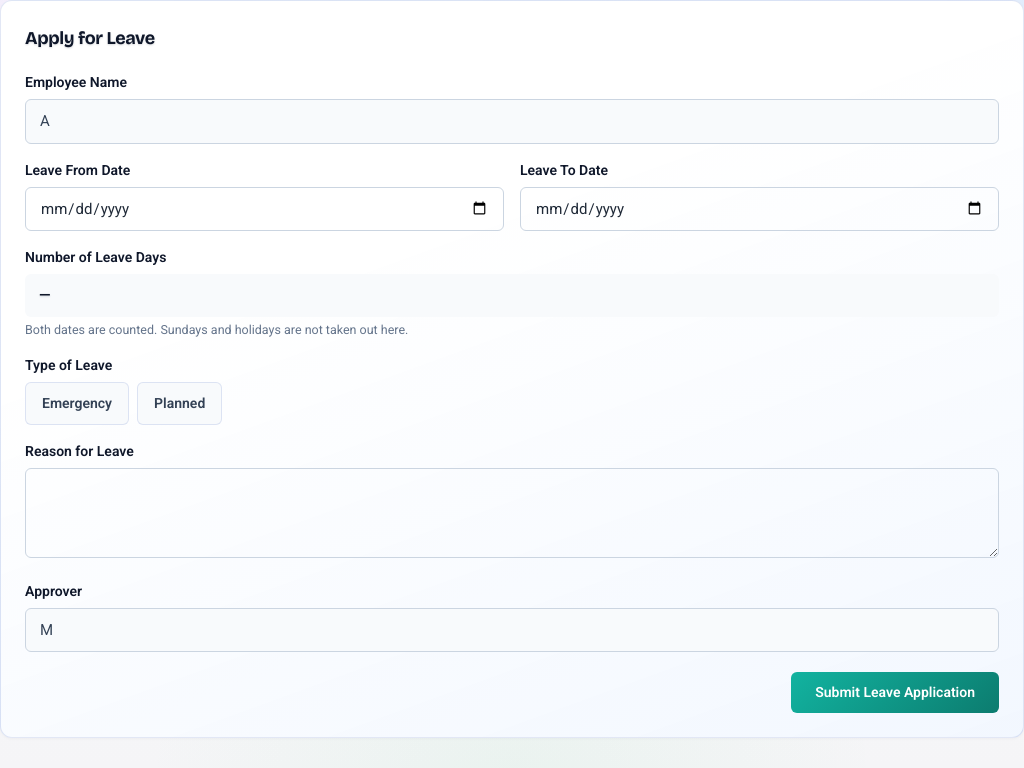
ApplyLeaveForm › ignores a second click while the first submission is in flight
Type "2026-09-15" into the date field labelled "Leave From Date".
click(264, 209); type("2026-09-15")  # box [25, 186, 504, 231]
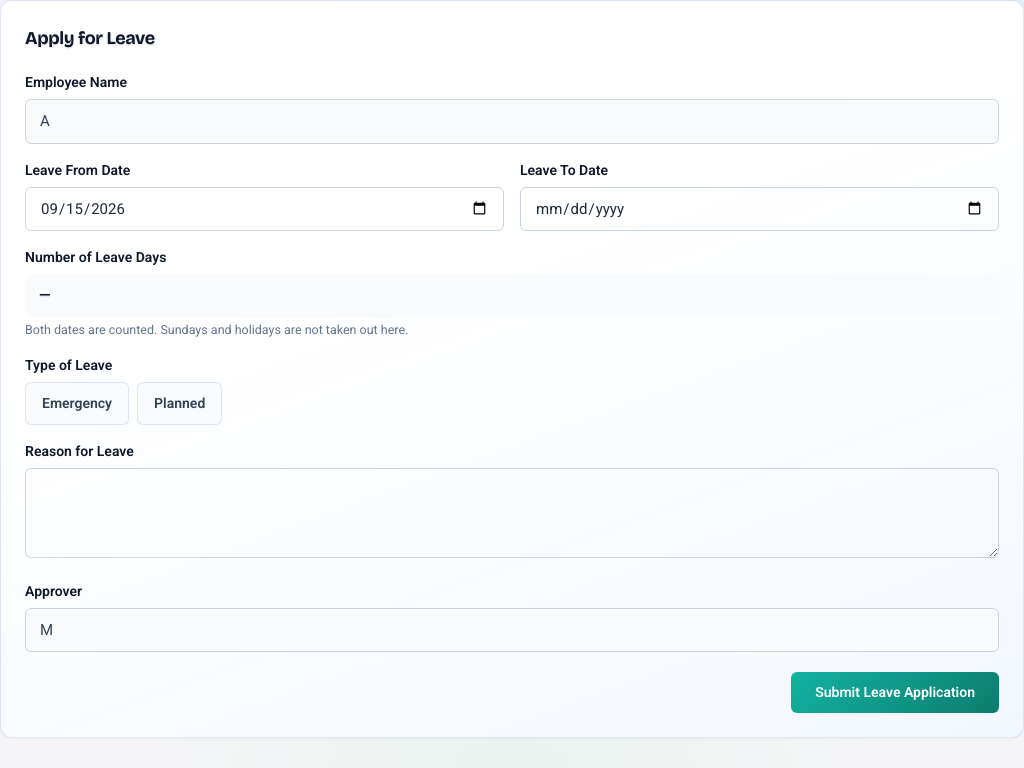
Type "2026-09-21" into the date field labelled "Leave To Date".
click(760, 209); type("2026-09-21")  # box [520, 186, 999, 231]
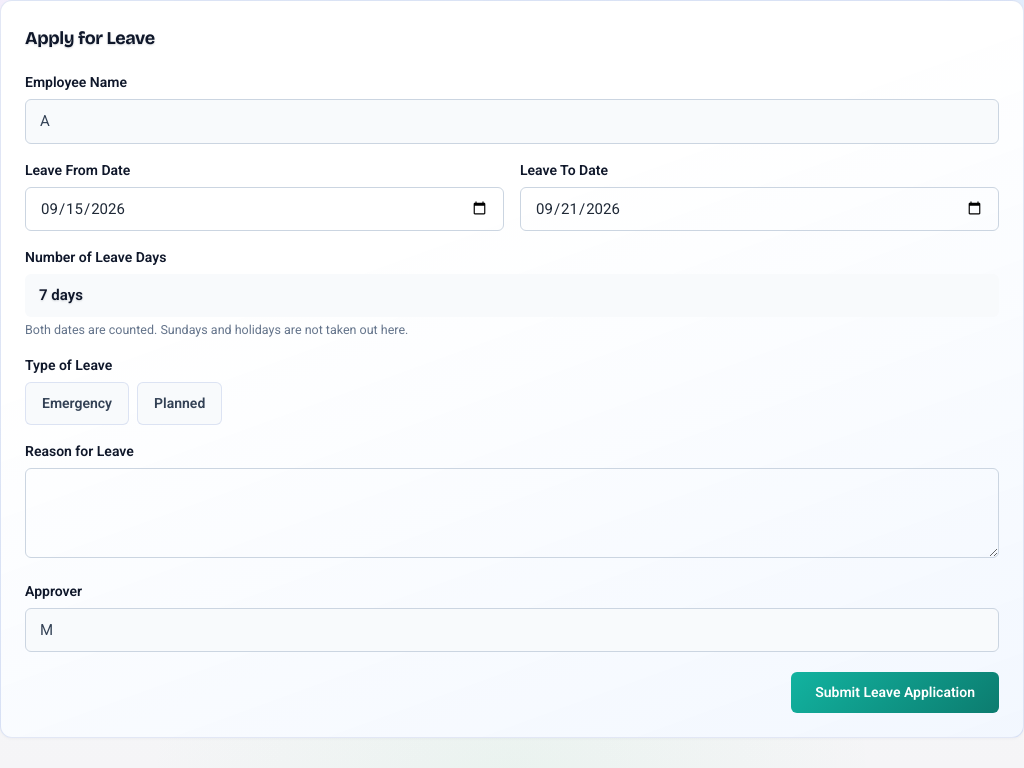
Click the radio button labelled "Planned".
click(180, 404)  # box [137, 382, 222, 425]
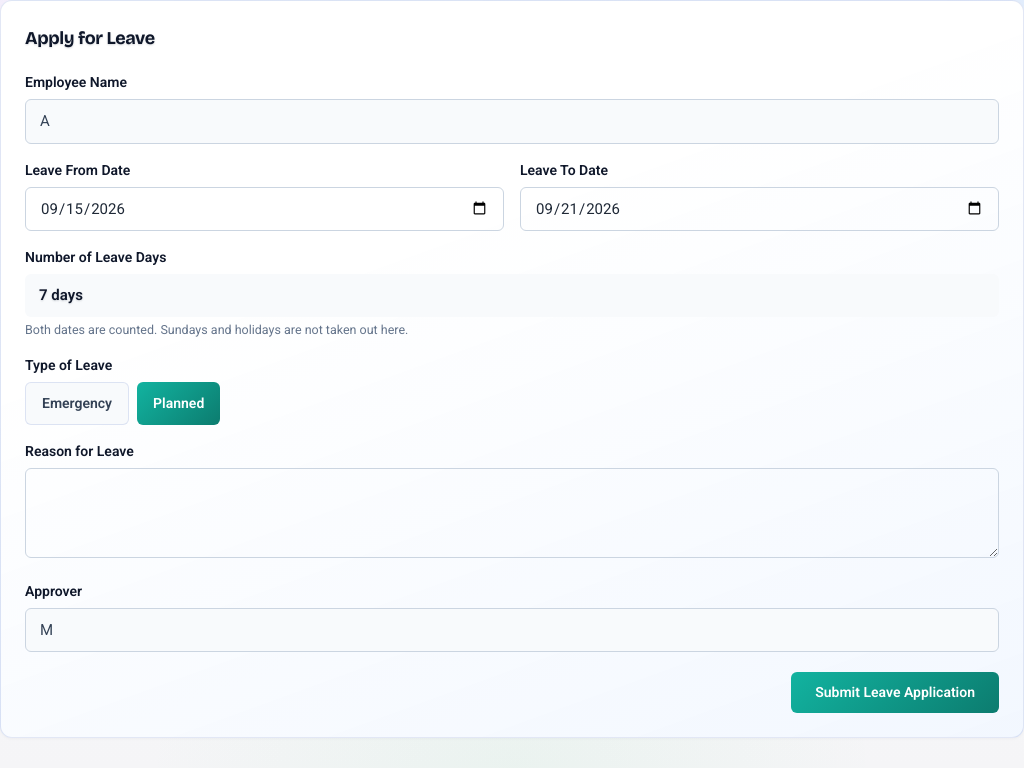
Type "Wedding" into the text box labelled "Reason for Leave".
click(512, 513); type("Wedding")  # box [25, 468, 999, 558]
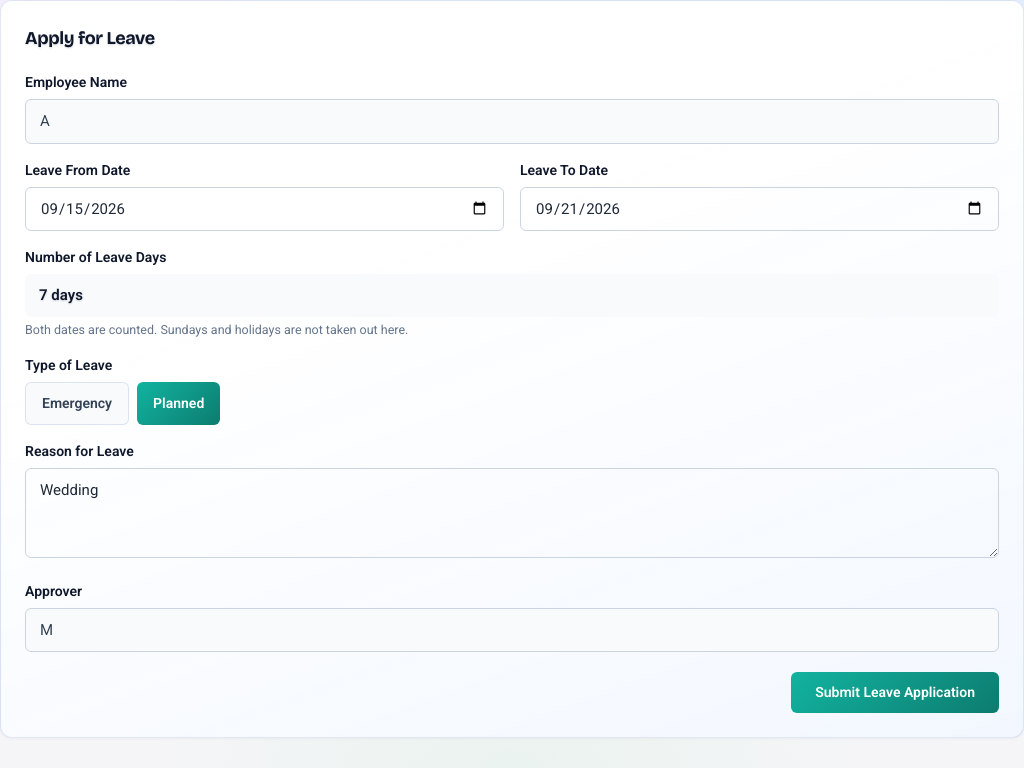
Click the button "Submit Leave Application".
click(895, 693)  # box [791, 672, 999, 713]
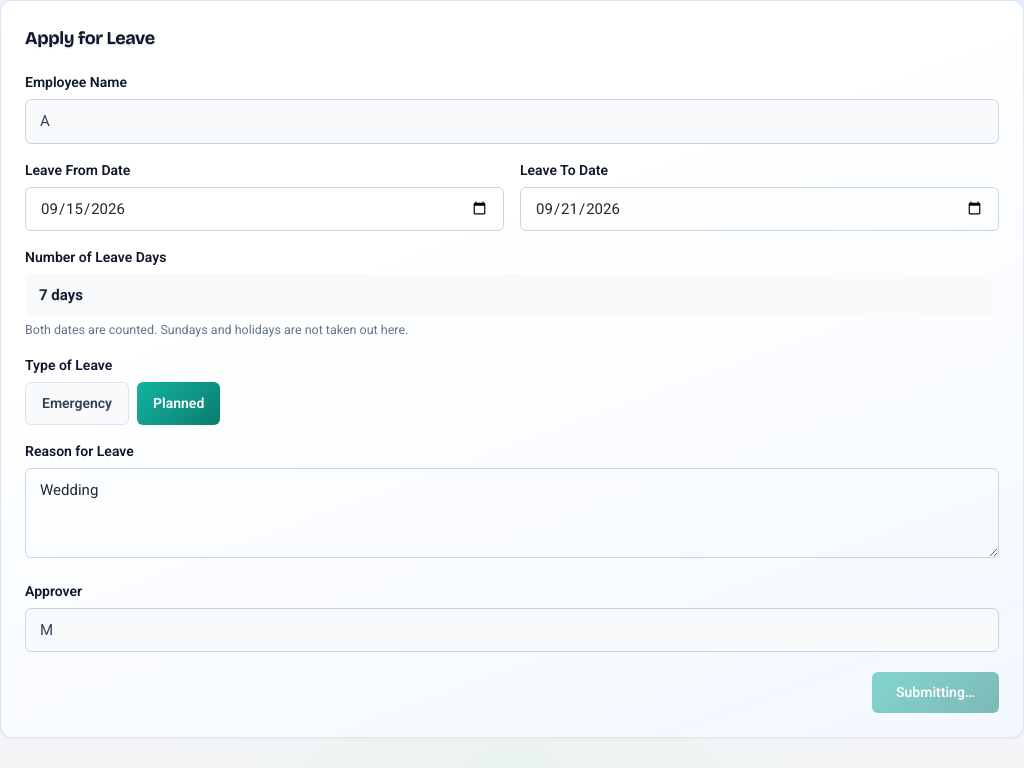
Click the button named "Submit Leave Application".
click(936, 693)  # box [872, 672, 999, 713]
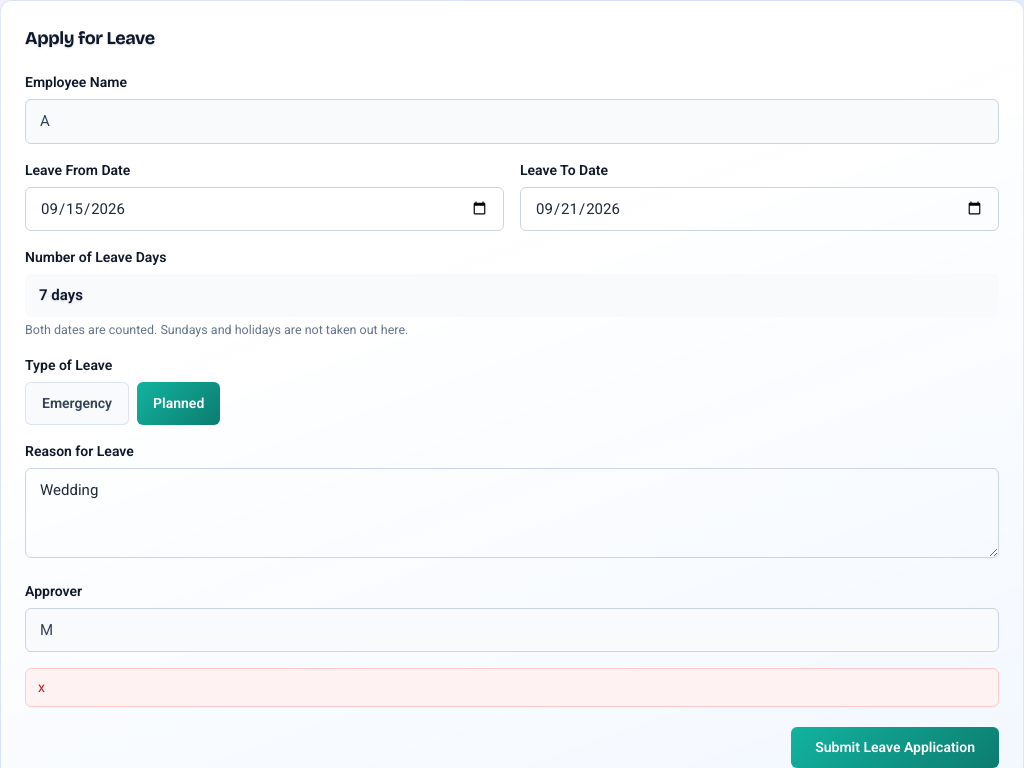
Expected: the message "x" is shown, [25, 668, 999, 707]
